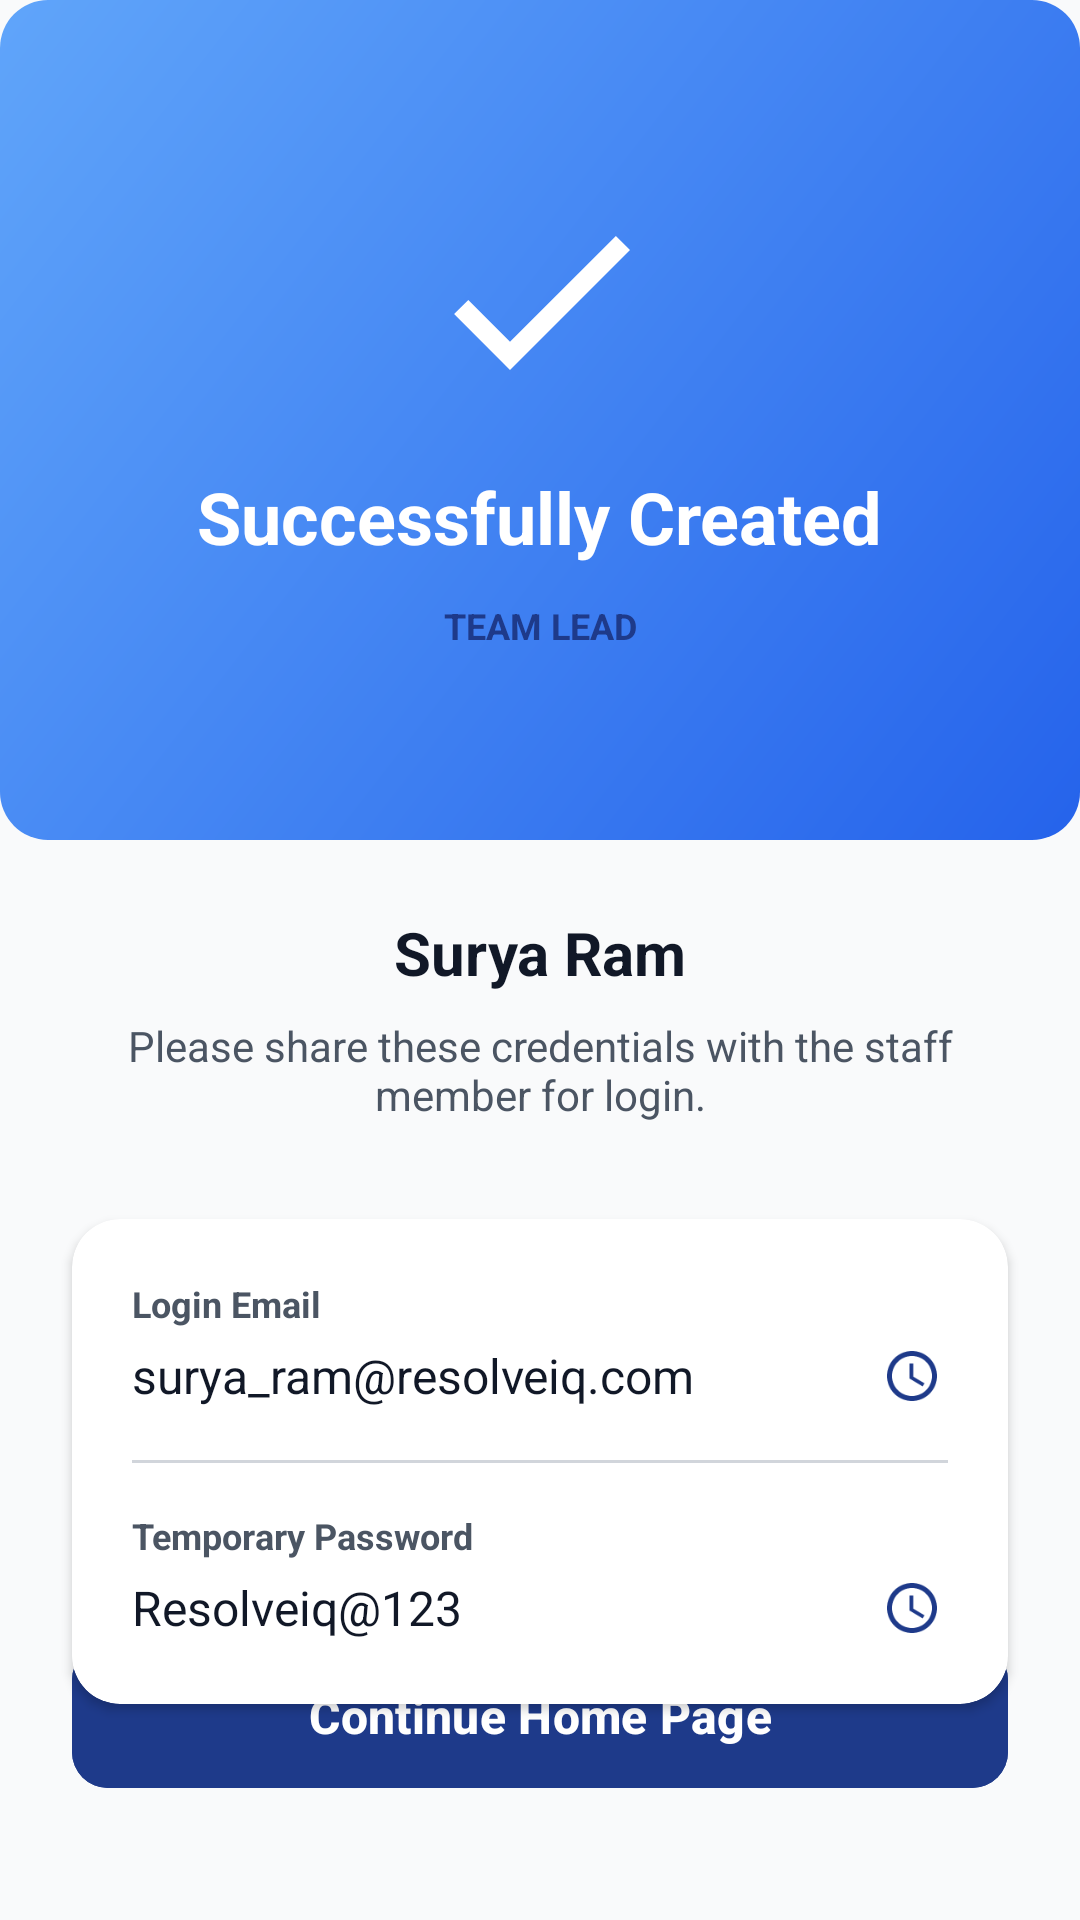

Where to tap for icons on this 1080w x 1920h app screen, as [x,y]:
check: [542,303]
